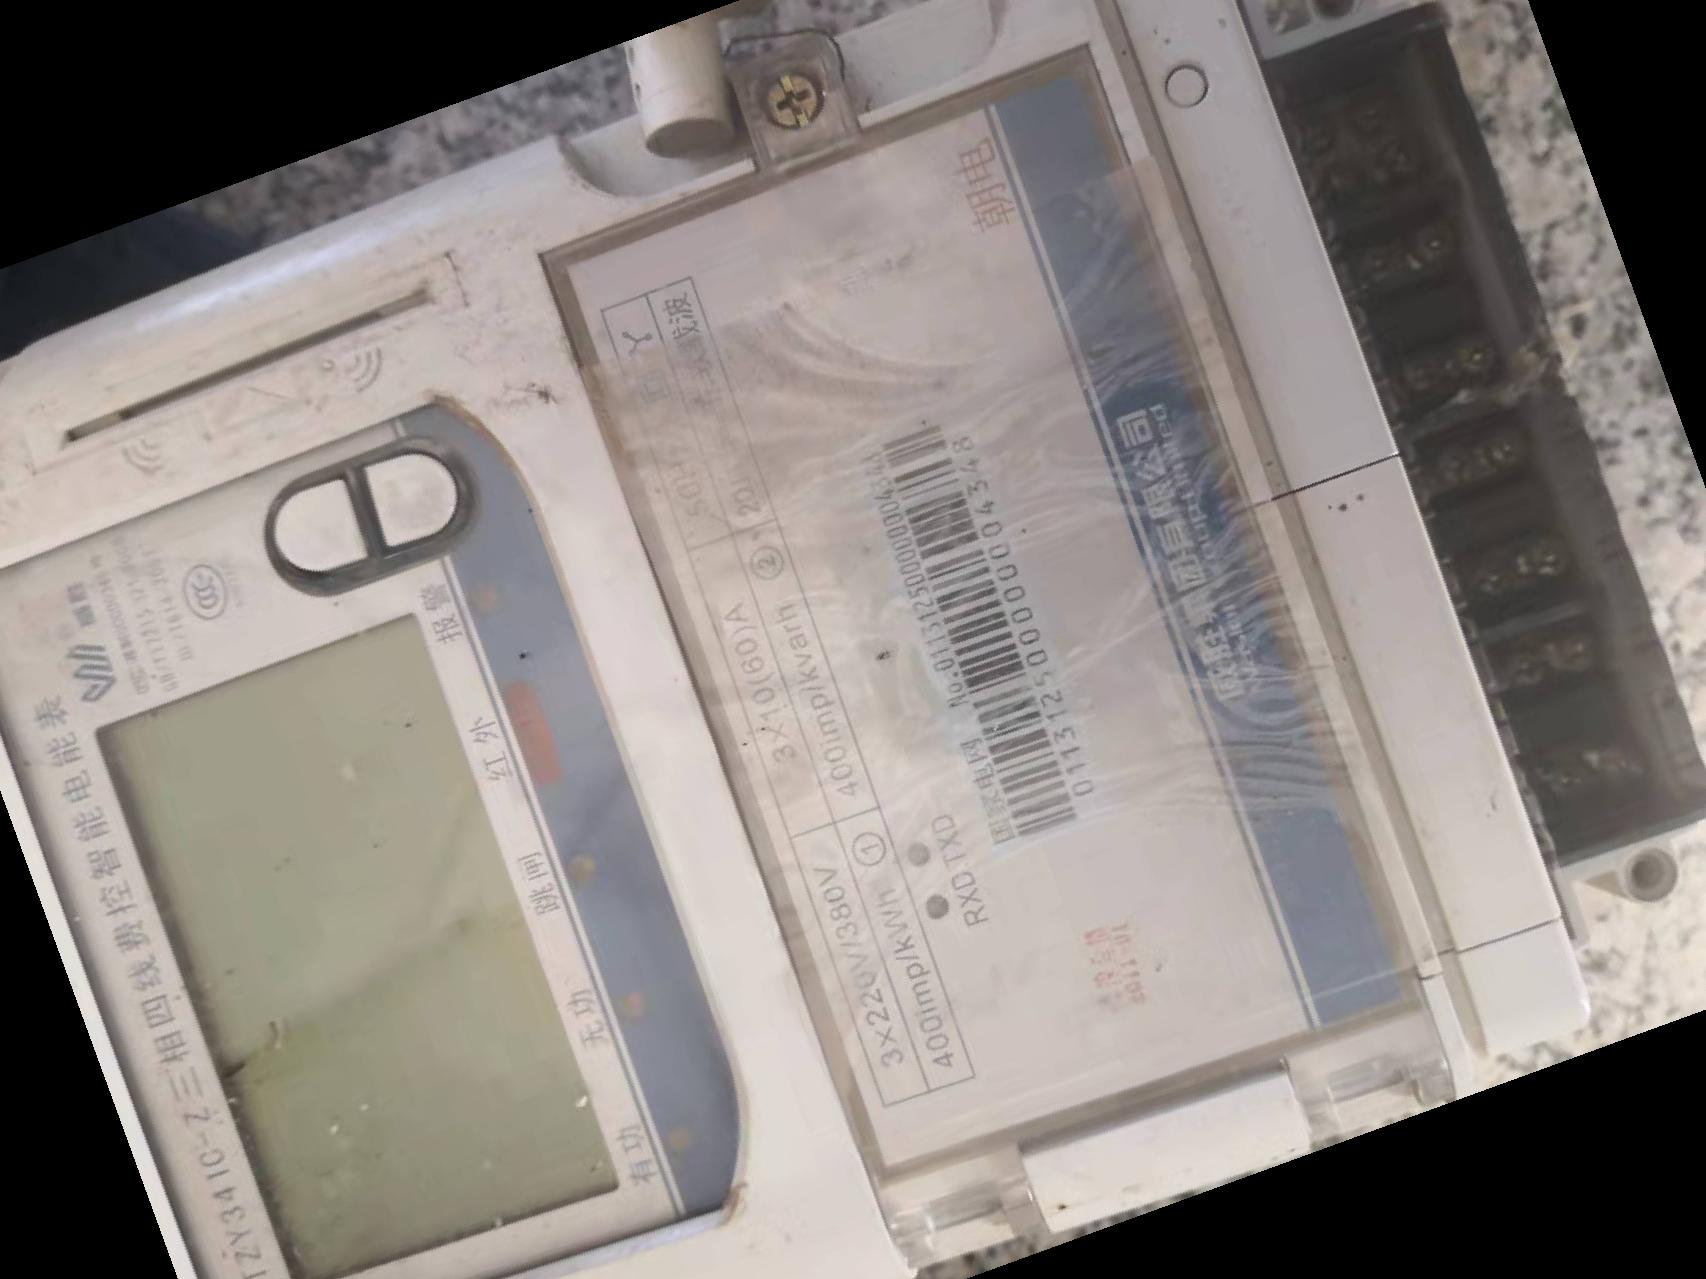digital: (5, 5, 1589, 1279)
